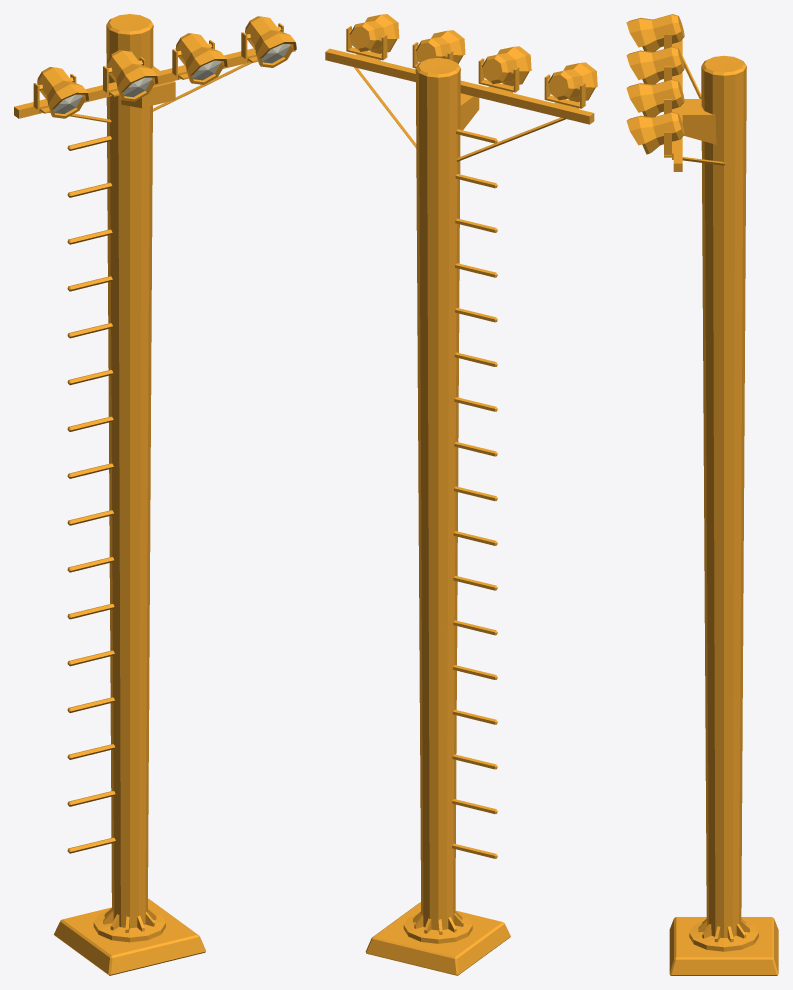
The model's file is SM_Reflector_Racetrack_10m.fbx.
The picture shows the model from 3 angles, left to right: view 1: azimuth 30°, elevation 25°; view 2: azimuth 150°, elevation 25°; view 3: azimuth 270°, elevation 25°; orthographic projection. The views are drawn at different scales.
Parts seen in each view (by area): view 1: SM_Reflector_Racetrack_10m; view 2: SM_Reflector_Racetrack_10m; view 3: SM_Reflector_Racetrack_10m.
Part boxes in pixels (x1,y1,x2,y2): SM_Reflector_Racetrack_10m: [14, 14, 296, 975]; SM_Reflector_Racetrack_10m: [325, 14, 597, 975]; SM_Reflector_Racetrack_10m: [626, 14, 778, 975].
Bounding box in the file's own units: 3.15 × 10 × 1.55.
